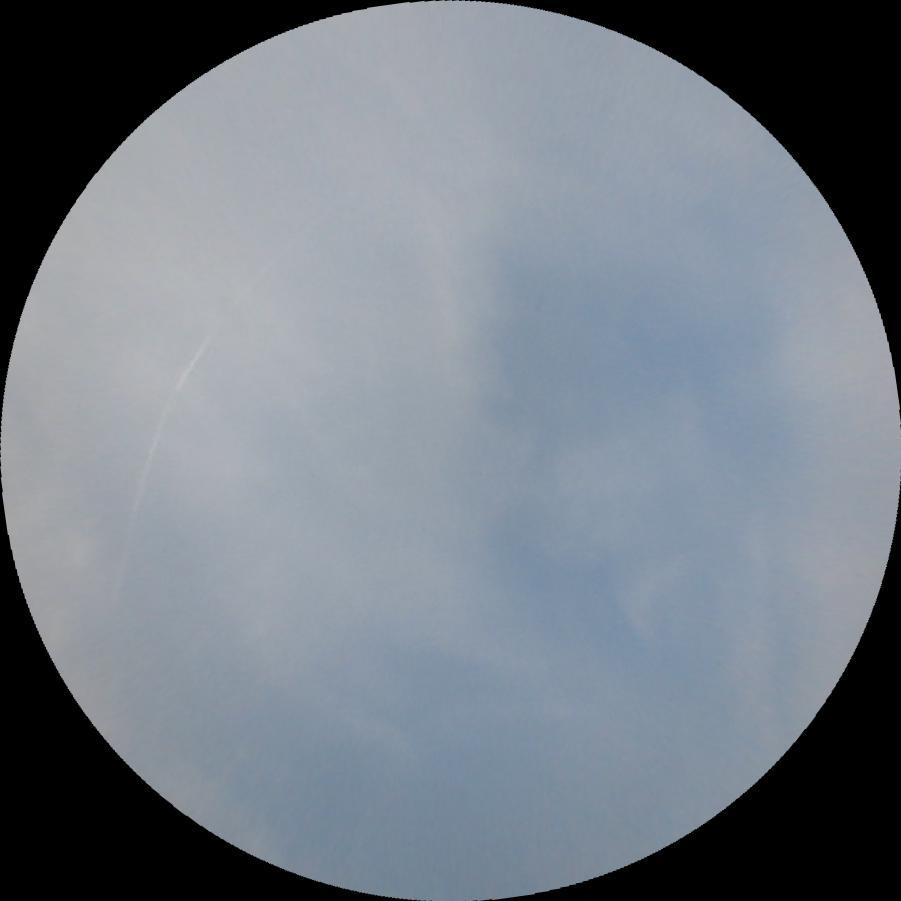contrail young: (67, 173, 342, 600)
